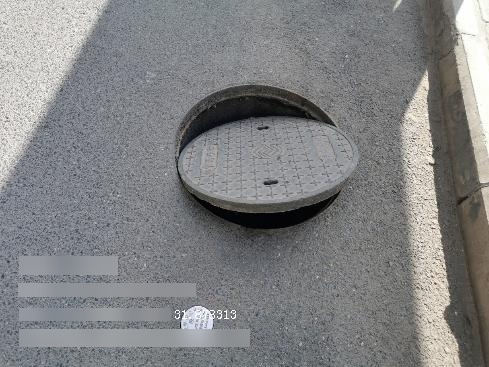uncovered: (174, 84, 357, 228)
